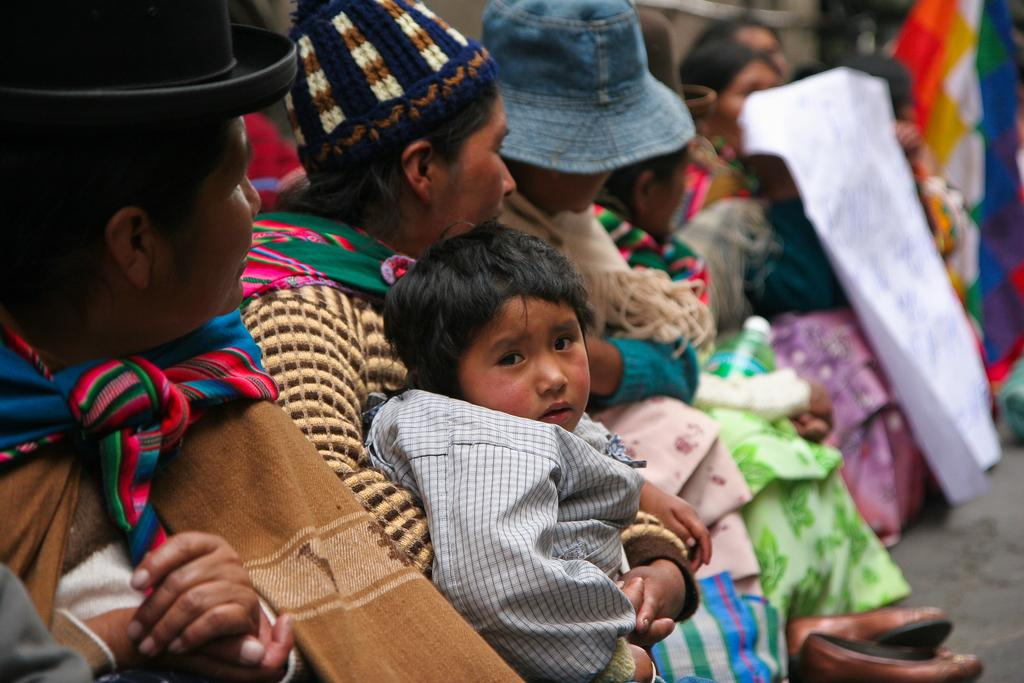Hat: (0, 0, 300, 135), (481, 0, 699, 173)
